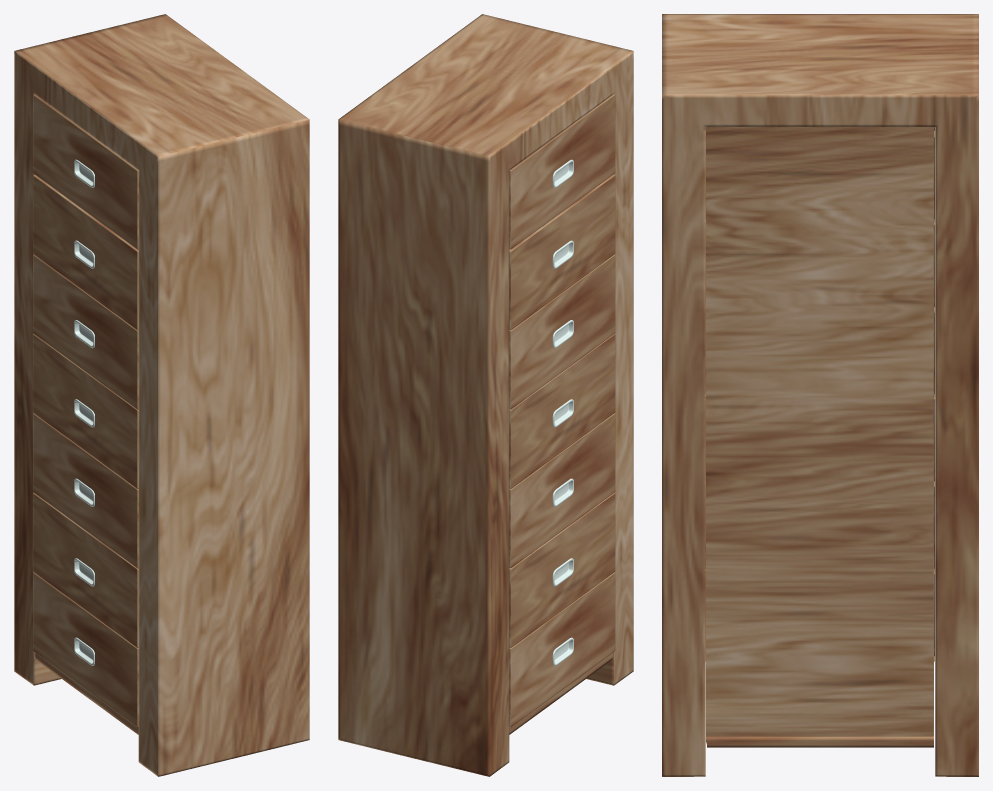
The model's file is drawer_01.obj.
The picture shows the model from 3 angles, left to right: view 1: azimuth 30°, elevation 25°; view 2: azimuth 150°, elevation 25°; view 3: azimuth 270°, elevation 25°; orthographic projection. The views are drawn at different scales.
Visible parts, largest first — view 1: drawer_01; view 2: drawer_01; view 3: drawer_01.
Boxes of the visible parts, x1,y1,x2,y2 form: drawer_01: (14,14,309,776); drawer_01: (338,14,633,776); drawer_01: (662,14,978,776).
Bounding box in the file's own units: 1.35 × 5.2 × 2.19.
